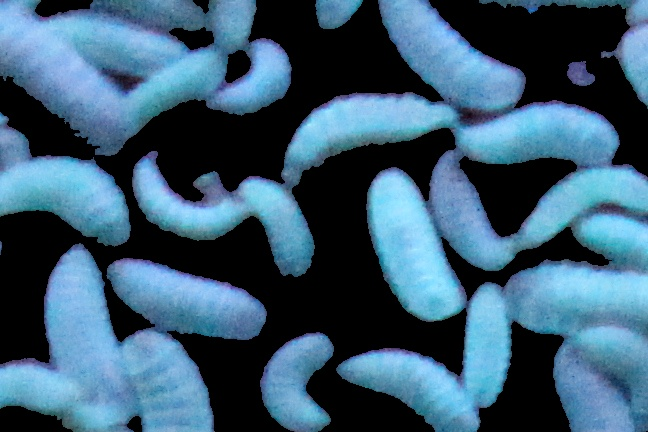larvae: (1, 5, 128, 150), (377, 1, 525, 106), (367, 168, 467, 318), (284, 96, 456, 177), (107, 256, 265, 341), (41, 245, 119, 412), (337, 344, 479, 432), (514, 155, 648, 247), (1, 157, 129, 245), (508, 264, 648, 335), (114, 332, 213, 432), (459, 103, 617, 165), (433, 152, 515, 270), (133, 153, 249, 236), (47, 11, 188, 77), (122, 45, 225, 128), (256, 329, 336, 431), (233, 178, 316, 274), (572, 328, 648, 426), (458, 283, 513, 405), (551, 351, 629, 432), (216, 37, 291, 114), (1, 361, 81, 419), (571, 213, 648, 263)
